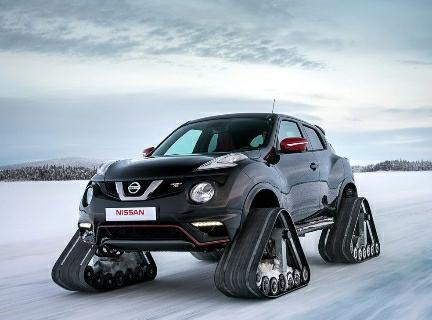car: (38, 94, 407, 303)
